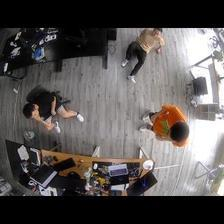fall: (121, 29, 166, 82)
normal: (20, 87, 84, 134), (139, 99, 192, 148)
